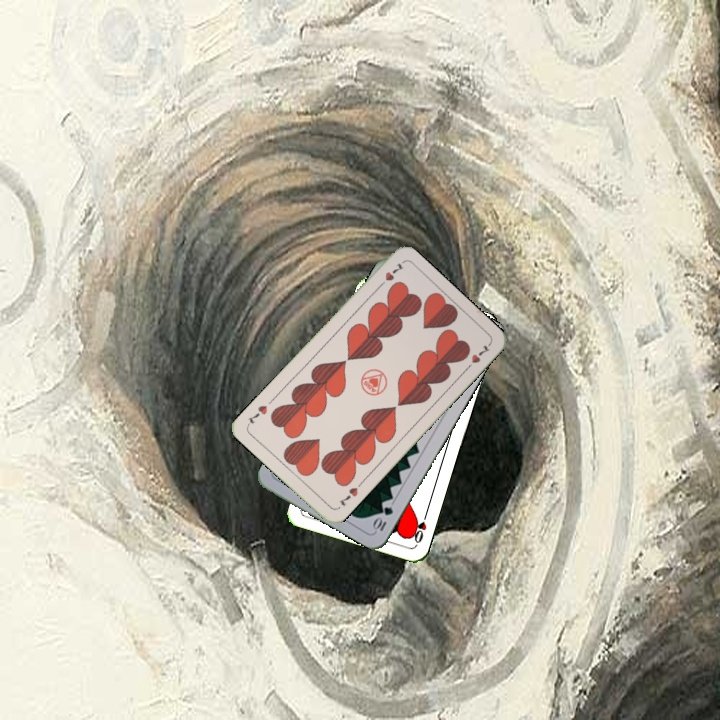G10: (368, 502, 396, 534)
H7: (373, 258, 406, 291), (334, 483, 360, 509)
HO: (409, 507, 431, 546)
